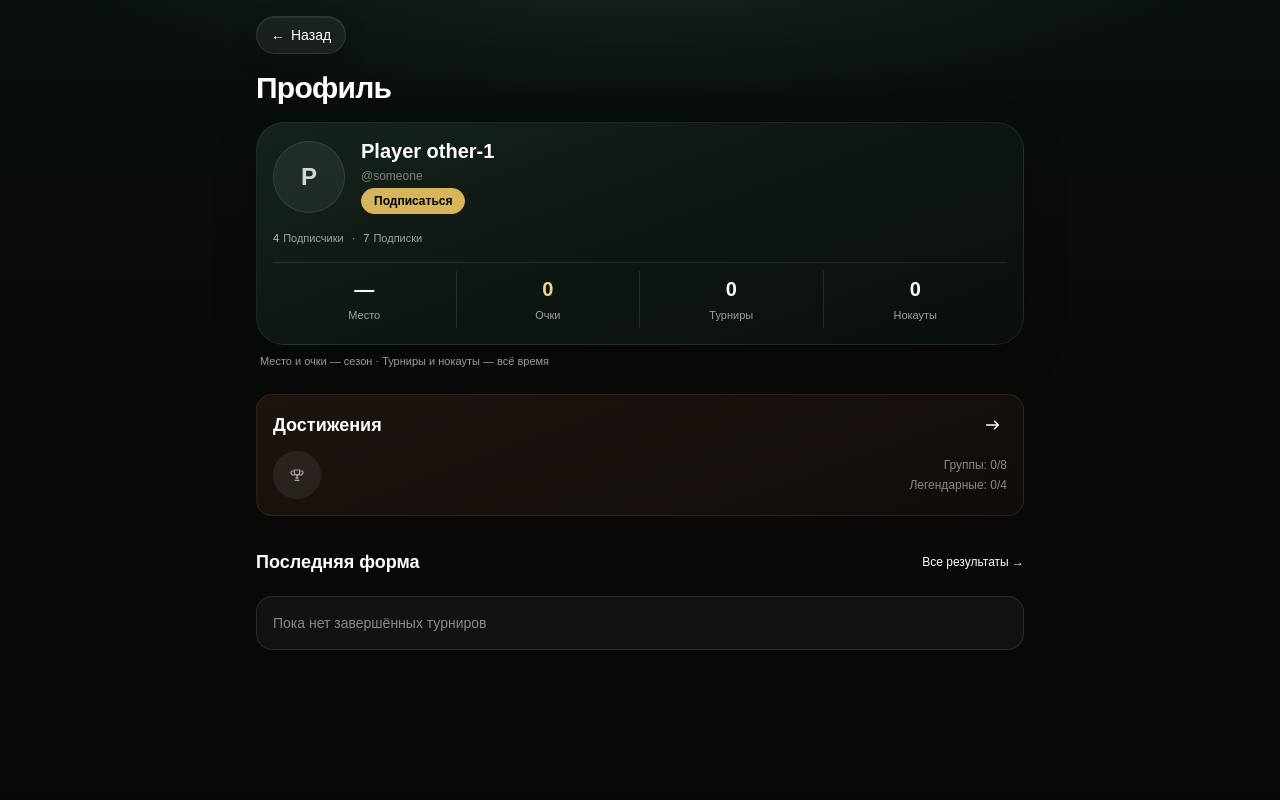
Test: follow / unfollow › H. follow success: POST, then «Отписаться» and the server's followers count
The width and height of the screenshot is (1280, 800).
Click the button "Подписаться" at (413, 201), box [361,188,466,214]
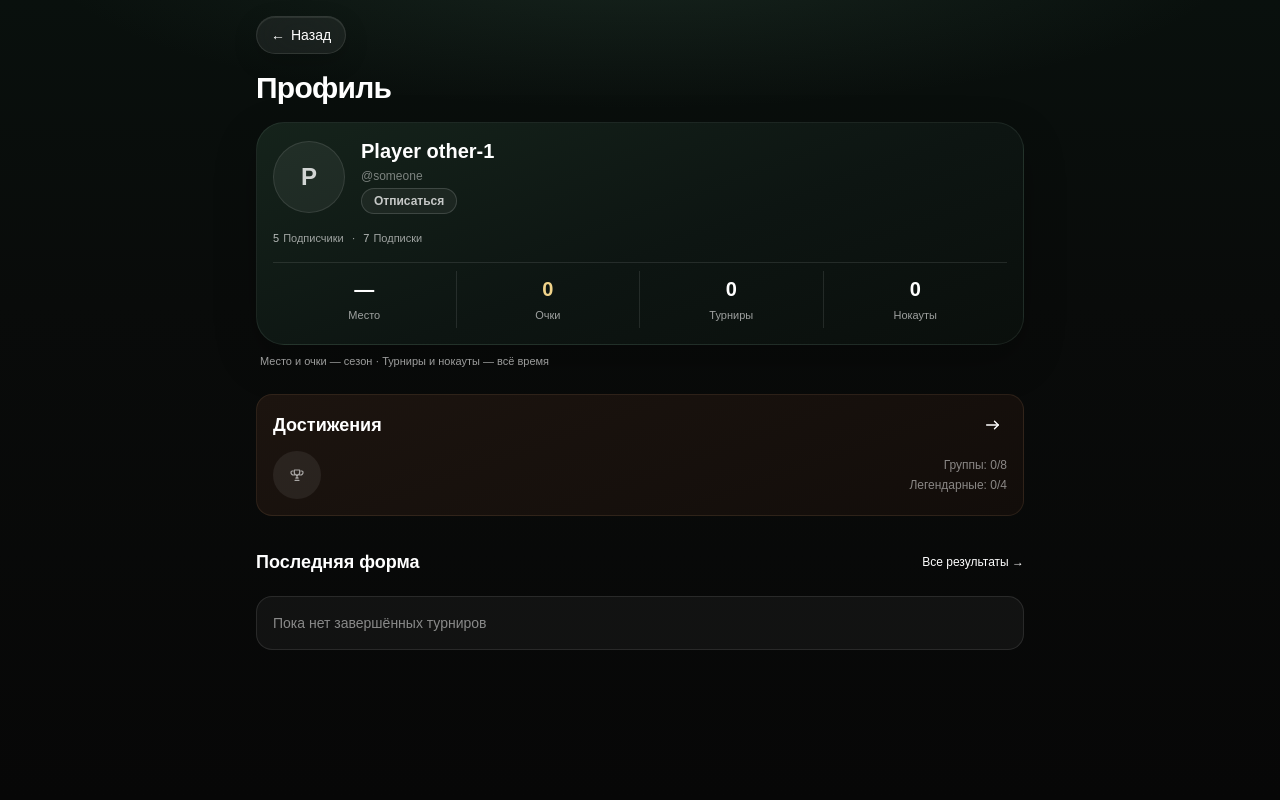
Now the button "Отписаться" is shown, box [361,188,457,214]
